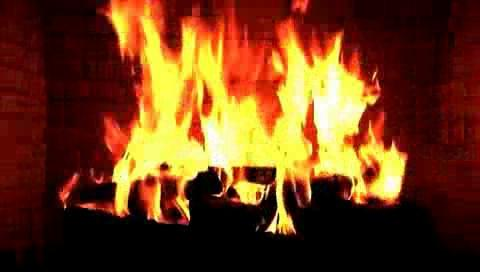fire: (102, 8, 393, 228)
